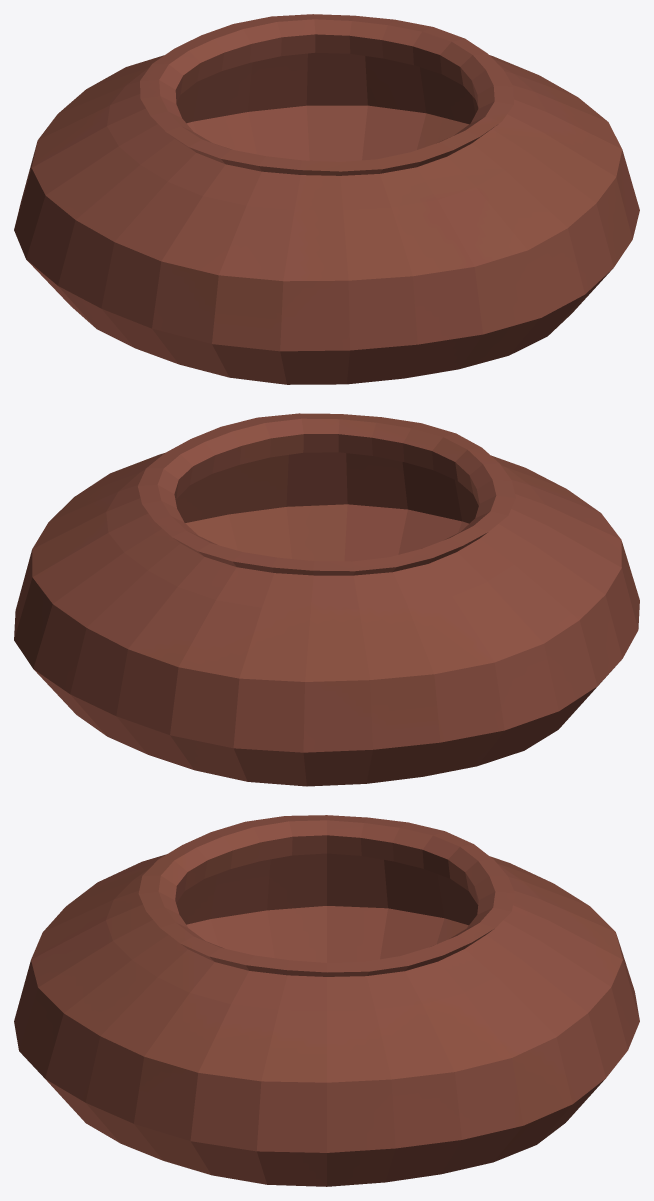
The model's file is PR_ClayBowl.glb.
3 renders of one model, top to bottom at view 1: azimuth 30°, elevation 25°; view 2: azimuth 150°, elevation 25°; view 3: azimuth 270°, elevation 25°, orthographic.
Visible parts, largest first — view 1: PR_ClayBowl; view 2: PR_ClayBowl; view 3: PR_ClayBowl.
Boxes of the visible parts, x1,y1,x2,y2 form: PR_ClayBowl: (14, 14, 639, 384); PR_ClayBowl: (14, 413, 639, 786); PR_ClayBowl: (14, 815, 639, 1186).
Bounding box in the file's own units: 0.359 × 0.1414 × 0.361.
1 material, 1 textured.
